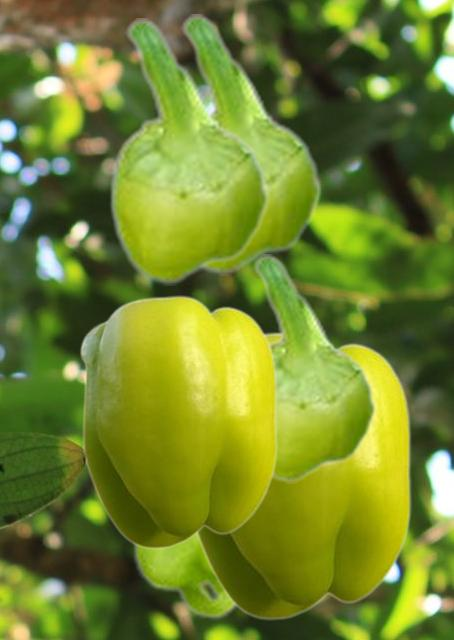bell_pepper: (196, 331, 410, 619), (79, 294, 276, 548), (108, 18, 269, 284), (175, 14, 321, 274), (247, 254, 376, 482), (131, 536, 239, 619)
